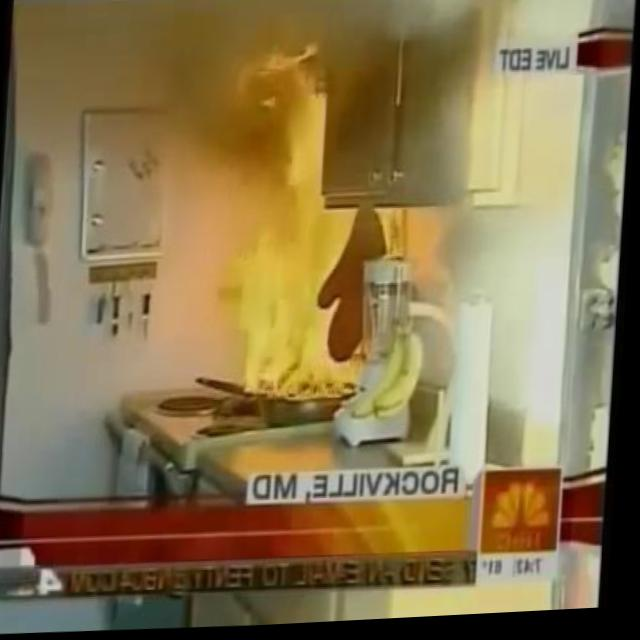fire: (233, 51, 421, 409)
